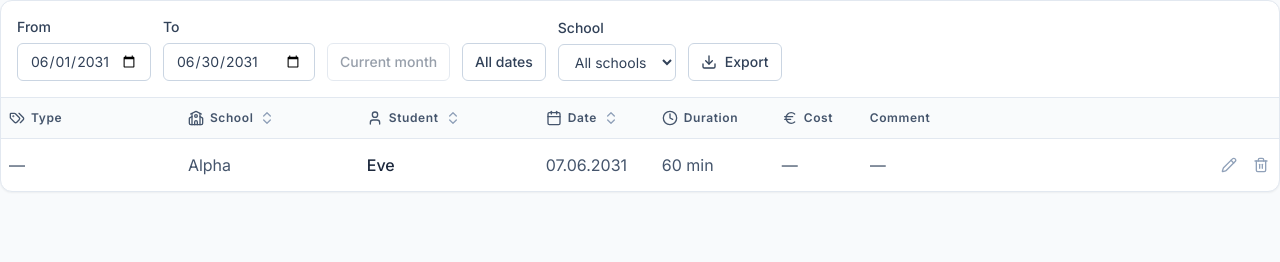
Test: LessonTable › shows all past lessons of the selected school when switching from Current month to All dates
Select "Beta" in the dropdown named "filter lessons by school": (617, 62) [558,44,676,81]
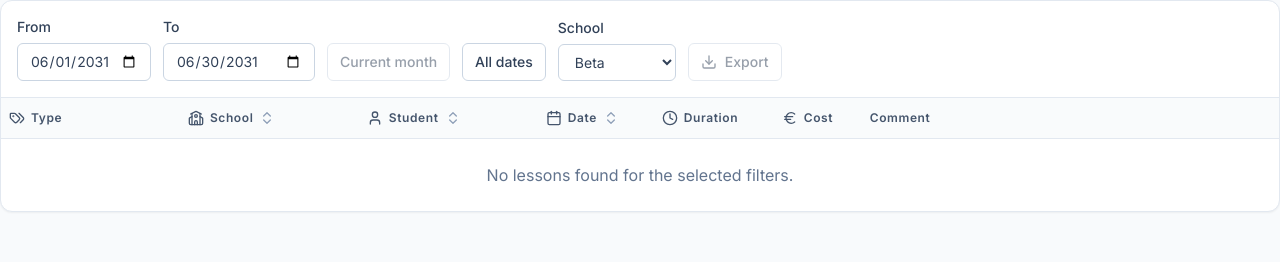
Now the text "No lessons found for the selected filters." is shown, box [1,138,1279,211]
Click the button "All dates": (504, 62) [462,43,546,81]
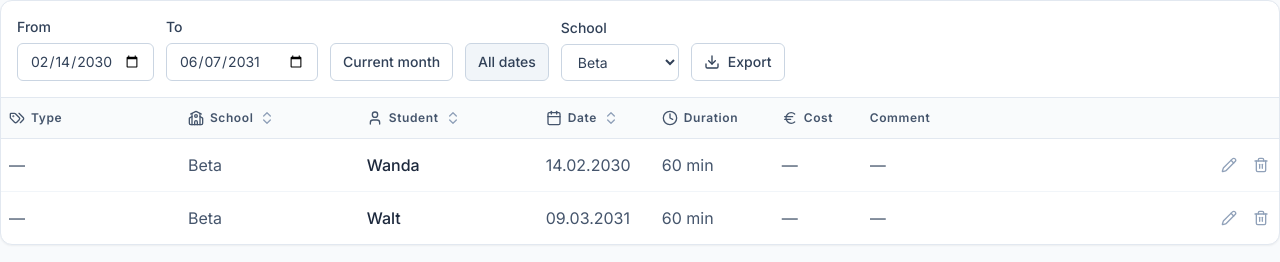
In the date field named "lesson filter end date": (242, 62) [166,43,318,81], type "2099-12-31"
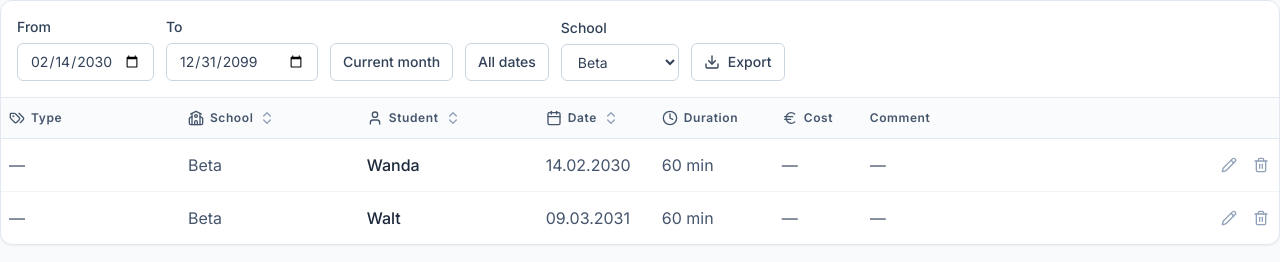
In the date field named "lesson filter start date": (86, 62) [17,43,154,81], type "2030-02-01"
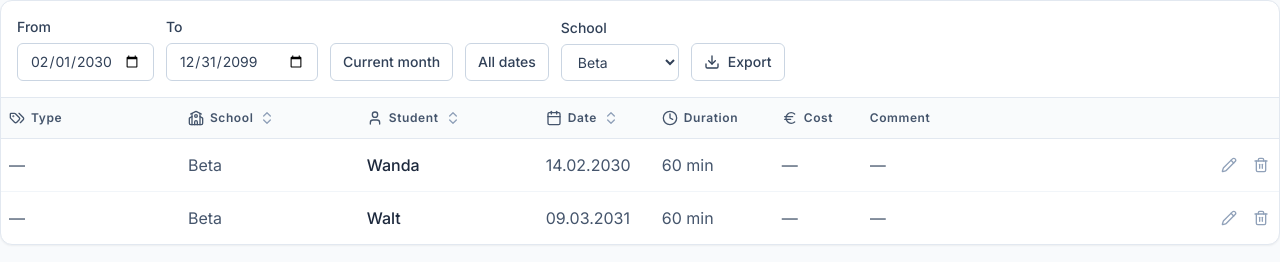
In the date field named "lesson filter end date": (242, 62) [166,43,318,81], type "2031-06-30"
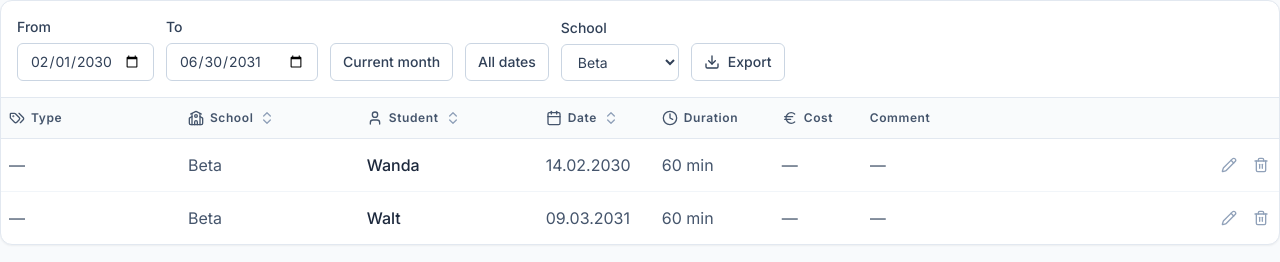
Click the button "Current month": (392, 62) [330,43,453,81]
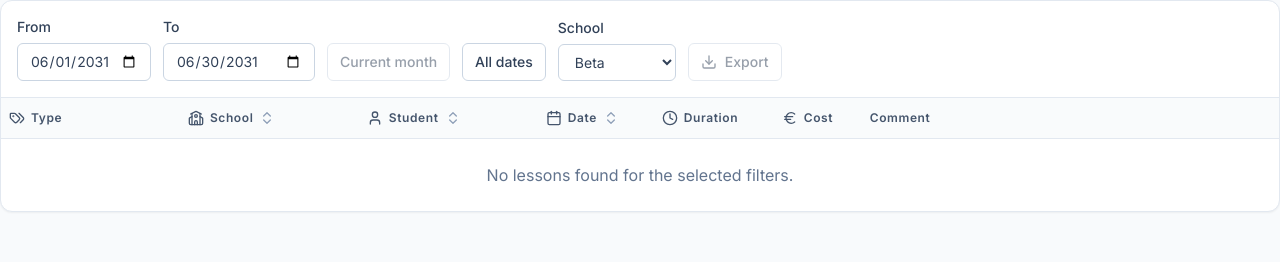
Now the text "No lessons found for the selected filters." is shown, box [1,138,1279,211]
